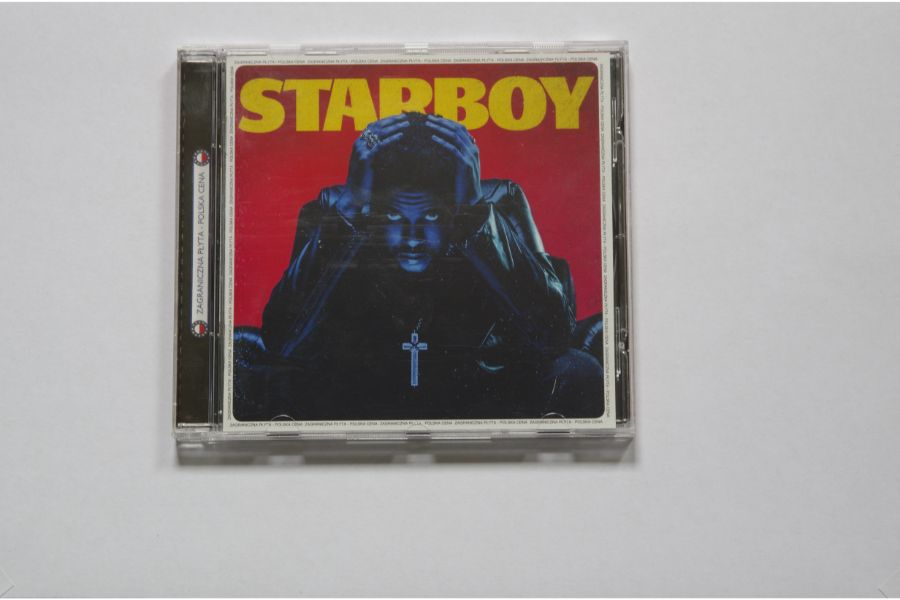album: (174, 35, 635, 452)
